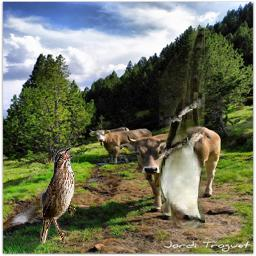Cuckoo: (159, 25, 205, 229)
Sparrow: (40, 147, 76, 243)
